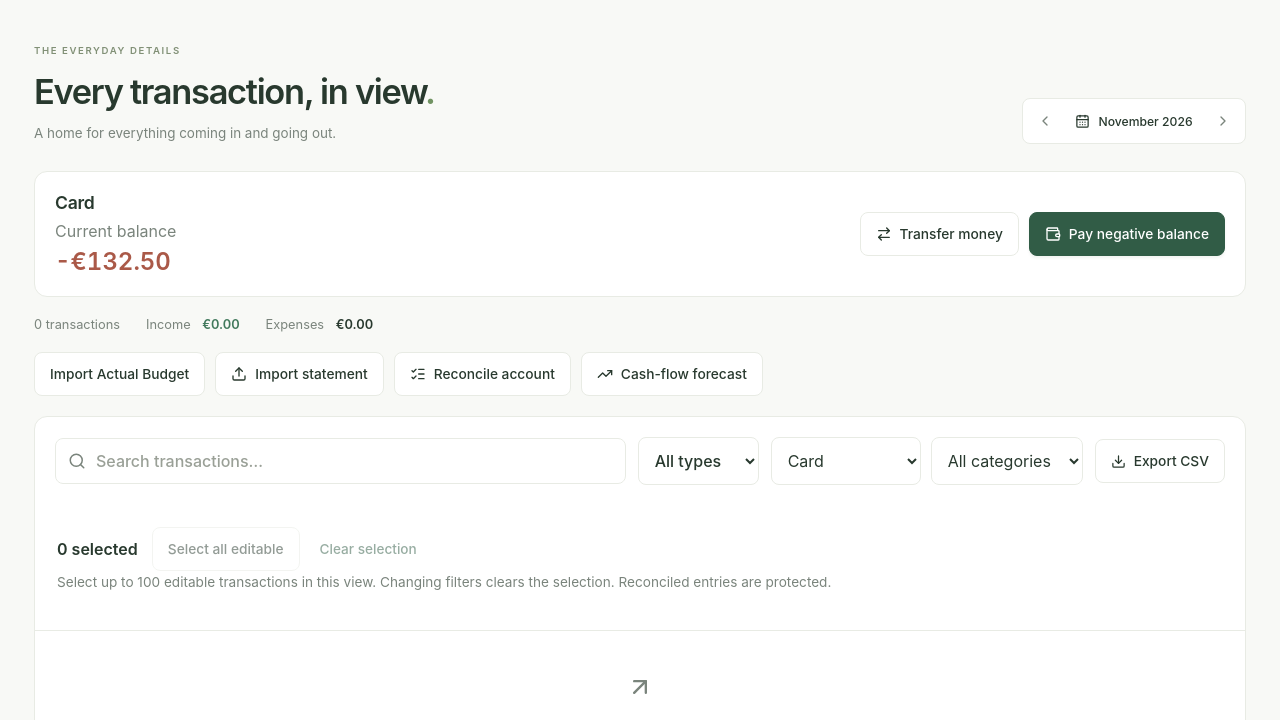
account transfer workflows › blocks resubmission after the write succeeds but the subsequent refresh fails
Click the button with aria-label "Pay negative balance for Card" at (1127, 234), box [1029, 212, 1225, 256]
(page scrolled)
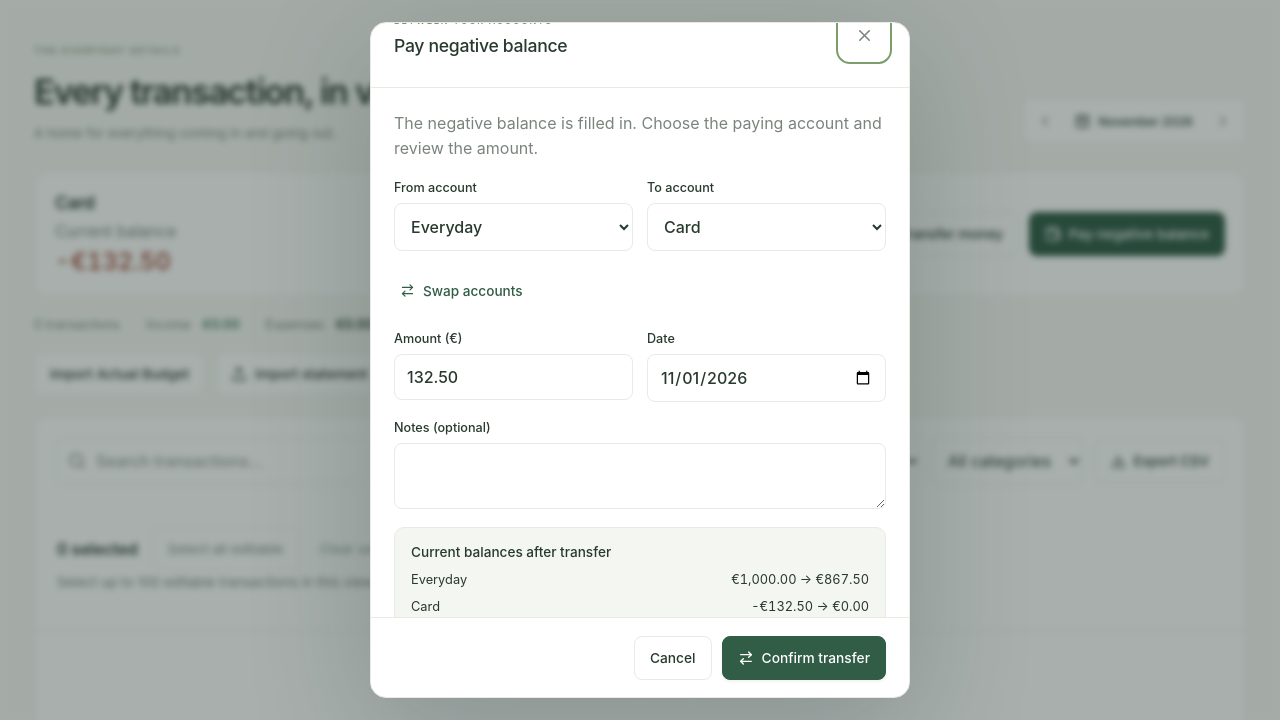
Submit the form
(page scrolled)
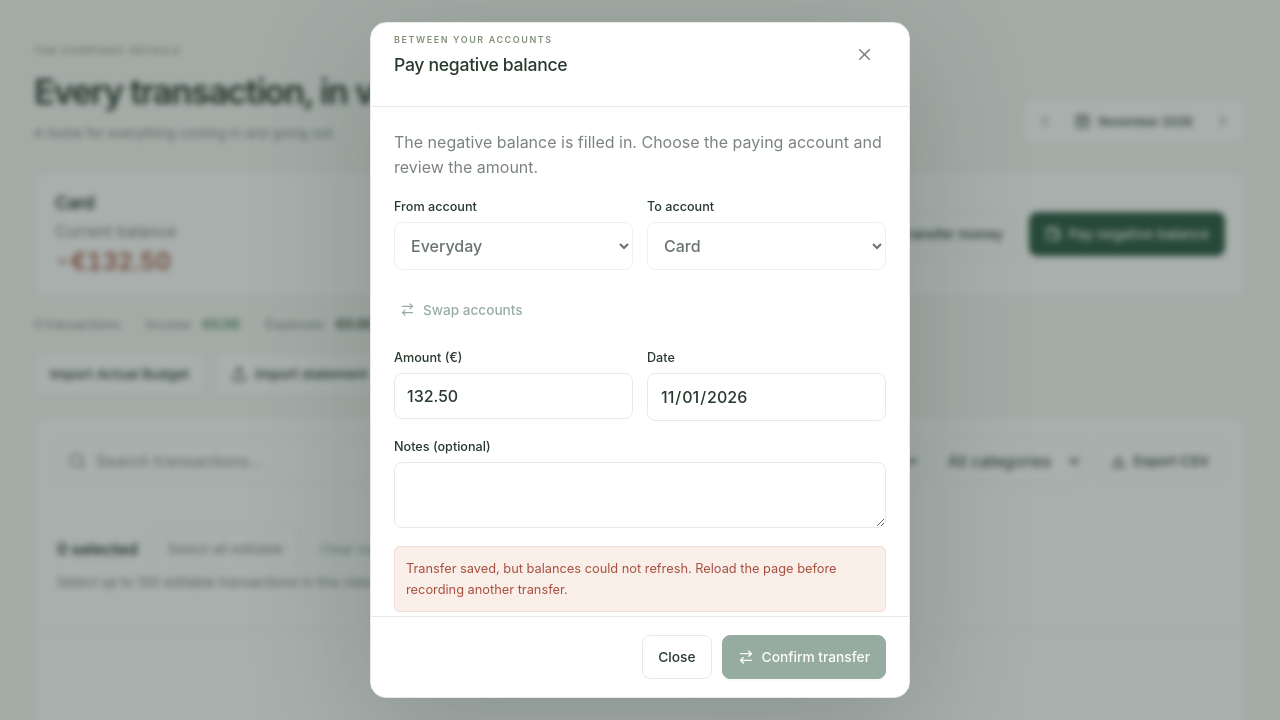
Expected: the message shows "Transfer saved, but balances could not refresh", [406, 561, 836, 597]
Expected: the button "Confirm transfer" is disabled, [722, 635, 886, 679]
Submit the form, box [371, 4, 909, 716]
Click the button "Close" at (677, 657), box [642, 635, 712, 679]
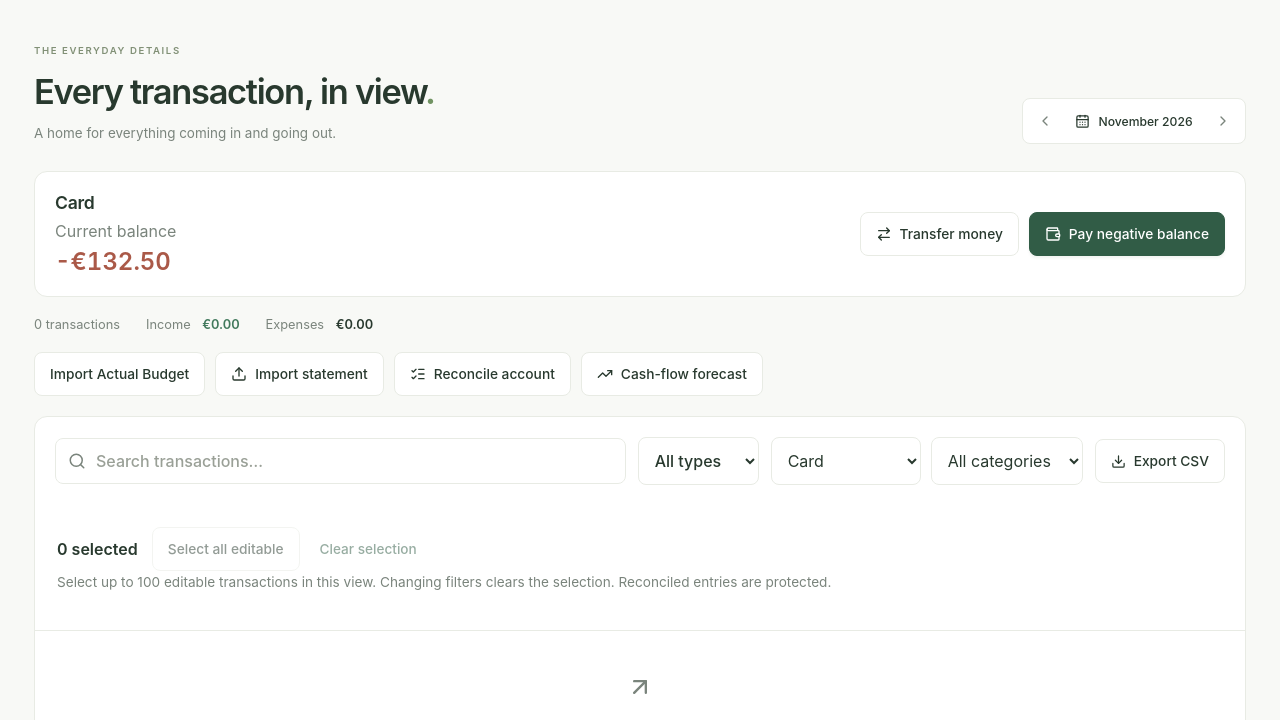
Expected: the dialog is gone
